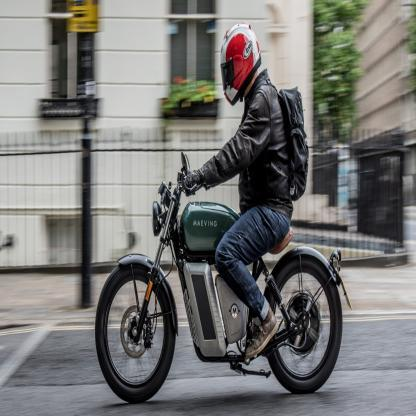helmet: (219, 23, 262, 107)
